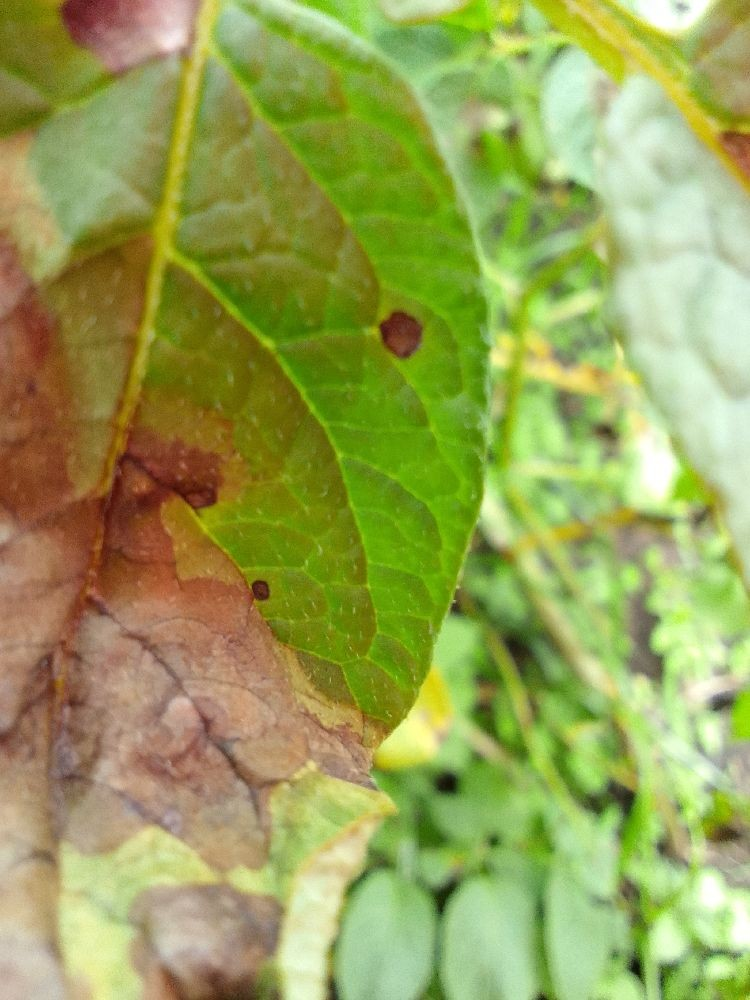late_blight: (0, 0, 418, 999), (637, 0, 750, 222), (598, 500, 684, 566)
